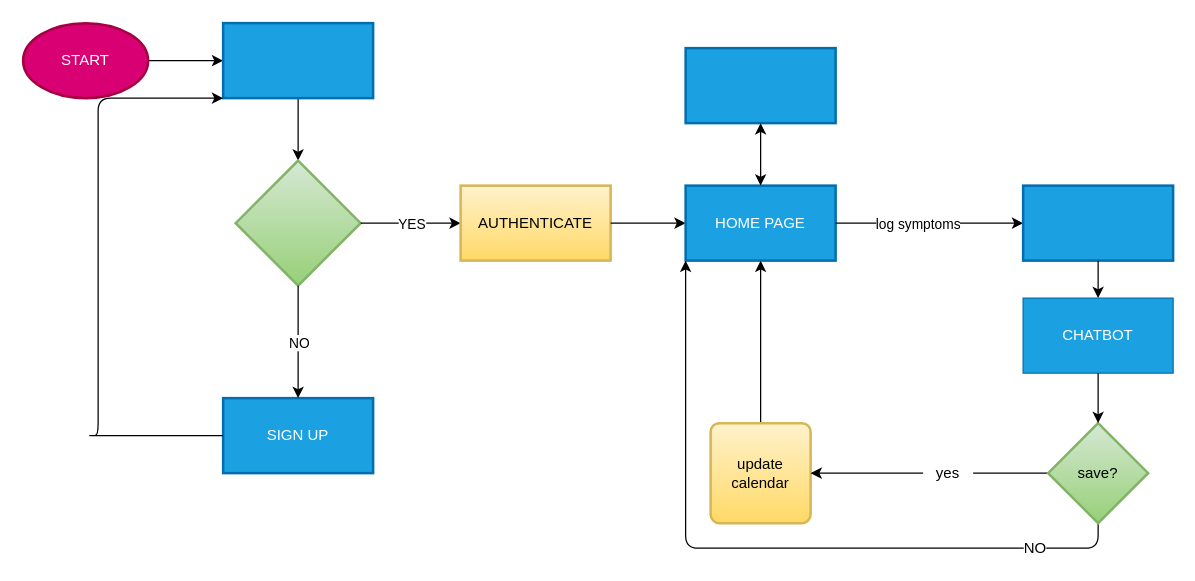
This 1195x581 diagram has some shape labels left out. The centre of each missing label's shape, as x and y in pixels:
ADD SYMPTOMS: [1097,222]
HELP: [760,85]
LOGIN: [297,60]
USER REGISTERED?: [297,222]
